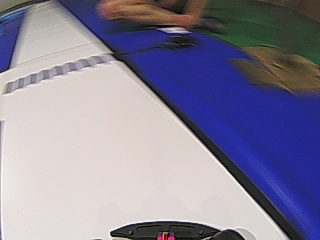CrossWalk: (19, 54, 105, 81)
